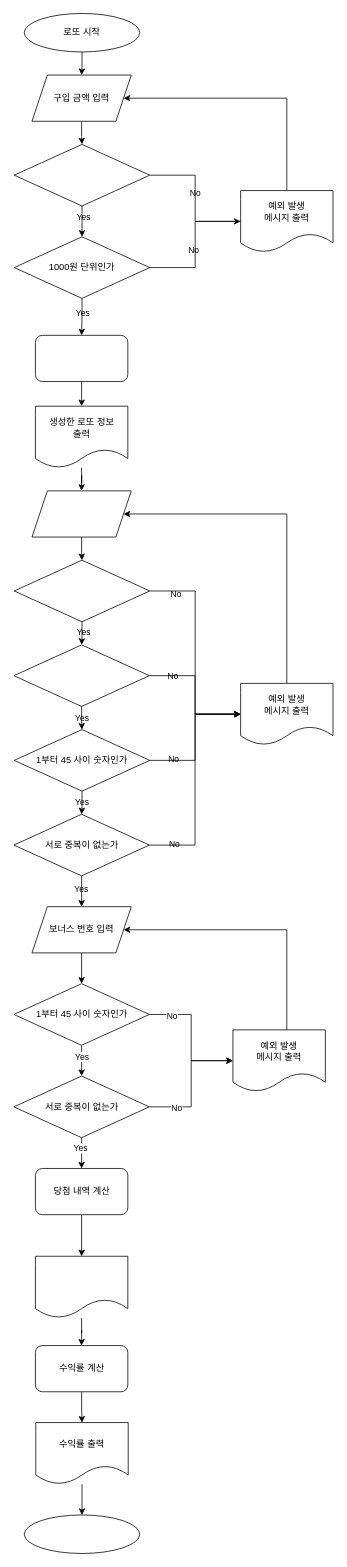
Some shapes in this 347 by 1567 pixel diagram are drawn without their labels. The centre of each missing label's shape, as x and y in pixels:
"1000이상 100000이하 정수인가" goes at (81,175).
"개수가 6개인가" goes at (81,675).
"구입 금액만큼 로또를 생성" goes at (81,358).
"당첨 내역을 바탕으로 당첨 통계 출력" goes at (81,1286).
"당첨 번호 입력" goes at (81,513).
"로또 종료" goes at (81,1533).
"쉼표를 기준으로 구분되는가" goes at (81,590).
